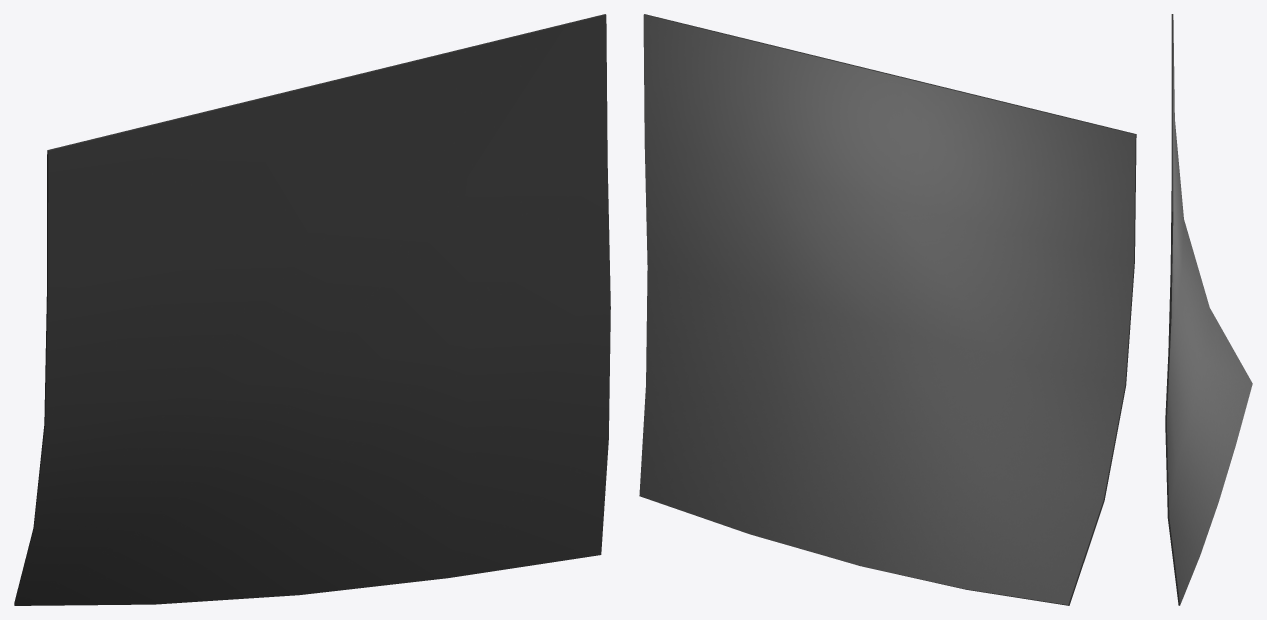
Rendered from postit.glb.
The picture shows the model from 3 angles, left to right: view 1: azimuth 30°, elevation 25°; view 2: azimuth 150°, elevation 25°; view 3: azimuth 270°, elevation 25°; orthographic projection. The views are drawn at different scales.
Parts seen in each view (by area): view 1: Plane; view 2: Plane; view 3: Plane.
Part boxes in pixels (bbox=[...]): Plane: bbox=[14, 14, 610, 605]; Plane: bbox=[639, 14, 1136, 605]; Plane: bbox=[1165, 14, 1252, 605].
Bounding box in the file's own units: 2 × 1.86 × 0.3745.
Materials: 1 (1 with a texture image).
